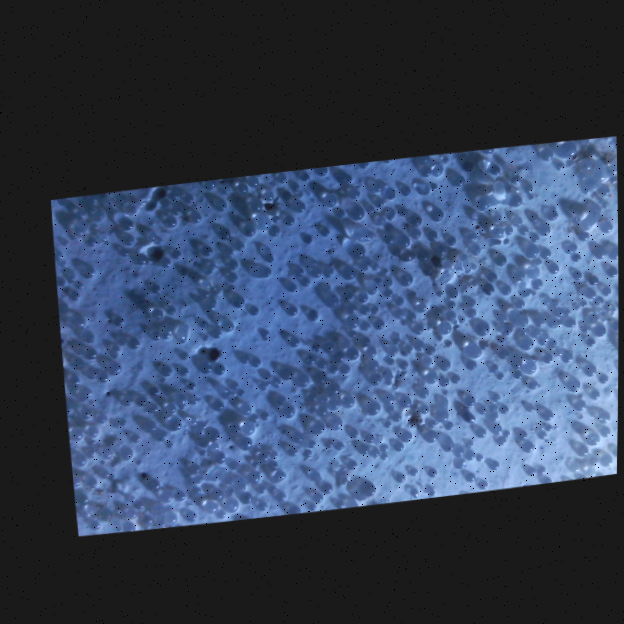GrassBeadSeg: (122, 187, 576, 530), (163, 161, 568, 523), (88, 214, 617, 487), (184, 192, 611, 498), (147, 221, 607, 491), (232, 157, 589, 490), (73, 223, 599, 445), (86, 233, 540, 487), (213, 208, 559, 512), (171, 248, 603, 481), (188, 209, 554, 474), (197, 183, 501, 495), (121, 225, 530, 456), (74, 254, 507, 466), (83, 214, 551, 409), (185, 195, 464, 514), (224, 158, 594, 389), (267, 231, 578, 492), (200, 149, 554, 367), (200, 245, 560, 448), (192, 184, 435, 477), (311, 164, 538, 475), (247, 224, 610, 413), (165, 273, 581, 430), (257, 226, 501, 493), (152, 259, 510, 440), (219, 229, 454, 501), (282, 147, 551, 383), (88, 410, 602, 529), (281, 231, 600, 417), (185, 255, 402, 522), (206, 352, 573, 509), (372, 232, 613, 466), (175, 207, 366, 500), (210, 232, 598, 375), (259, 182, 524, 390), (235, 240, 452, 485), (316, 245, 539, 483), (267, 265, 540, 459), (241, 266, 461, 502), (267, 270, 527, 469), (164, 375, 526, 516), (167, 188, 360, 452), (115, 314, 478, 454), (230, 323, 590, 462), (222, 300, 457, 503), (199, 252, 582, 374), (77, 341, 482, 455), (222, 356, 515, 512), (222, 295, 522, 447), (196, 165, 328, 489), (312, 235, 507, 449), (159, 258, 359, 461), (400, 250, 591, 455), (298, 313, 612, 435), (385, 142, 563, 355), (253, 198, 372, 497), (423, 271, 611, 457), (248, 220, 613, 315), (212, 306, 407, 482), (239, 282, 499, 414), (191, 339, 425, 483), (62, 237, 209, 456), (186, 266, 334, 474), (383, 289, 596, 432), (251, 264, 437, 425), (223, 215, 387, 397), (203, 266, 321, 513), (182, 192, 616, 258), (318, 389, 593, 493), (288, 335, 495, 470), (475, 197, 599, 418), (222, 228, 455, 345), (416, 250, 553, 445), (203, 246, 607, 311), (277, 227, 439, 382), (291, 308, 478, 441), (300, 277, 500, 401), (216, 452, 581, 517), (321, 193, 452, 373), (232, 294, 476, 385), (252, 305, 380, 472), (257, 433, 528, 511), (311, 319, 491, 433), (295, 372, 502, 470), (243, 225, 342, 429), (255, 164, 558, 230), (216, 319, 324, 502), (165, 263, 327, 384), (388, 235, 599, 323), (341, 271, 534, 349), (438, 316, 577, 422), (432, 208, 494, 438), (213, 321, 479, 374), (359, 343, 466, 468), (165, 424, 504, 463), (206, 427, 416, 488), (539, 316, 616, 474), (286, 266, 358, 432), (243, 451, 547, 488), (227, 205, 371, 283), (468, 244, 552, 373), (307, 395, 476, 459), (158, 230, 436, 268), (263, 394, 357, 506), (231, 428, 345, 510), (214, 452, 420, 497), (374, 218, 452, 333), (398, 277, 440, 476), (249, 266, 335, 360), (228, 261, 296, 378), (229, 202, 258, 470), (426, 356, 535, 427), (484, 288, 563, 380), (198, 453, 377, 493), (161, 429, 260, 501), (145, 308, 183, 489), (340, 258, 416, 346), (350, 234, 481, 285), (442, 277, 480, 452), (401, 298, 525, 351), (438, 186, 538, 247), (386, 359, 488, 412), (306, 174, 383, 243), (135, 254, 208, 323), (526, 289, 616, 343), (268, 225, 319, 320), (342, 320, 394, 412), (434, 290, 561, 327), (323, 395, 408, 450), (425, 210, 445, 442), (479, 337, 540, 413), (262, 327, 338, 386), (268, 256, 352, 307), (346, 460, 490, 489), (90, 385, 158, 446), (387, 155, 450, 220), (466, 369, 522, 442), (427, 440, 536, 475), (396, 221, 552, 245), (270, 437, 349, 484), (449, 258, 541, 298), (360, 258, 400, 342), (57, 197, 107, 264), (166, 178, 260, 213), (78, 208, 105, 326), (469, 169, 534, 218), (205, 250, 271, 297), (313, 369, 380, 413), (237, 182, 253, 363), (73, 397, 133, 443), (168, 181, 233, 223), (304, 172, 346, 236), (595, 185, 617, 305), (557, 141, 579, 255), (436, 236, 509, 268), (381, 412, 418, 475), (82, 470, 128, 520), (274, 340, 327, 383), (275, 352, 318, 404), (127, 213, 197, 244), (348, 186, 490, 201), (342, 296, 370, 372), (251, 176, 294, 225), (85, 331, 126, 381), (80, 319, 140, 353), (568, 159, 616, 200), (309, 357, 344, 412), (504, 408, 584, 432), (162, 351, 198, 404), (191, 418, 221, 481), (87, 445, 143, 478), (349, 399, 385, 450), (151, 321, 209, 351), (147, 396, 197, 430), (553, 269, 587, 316), (488, 373, 514, 434), (305, 344, 437, 356), (348, 300, 400, 329), (130, 491, 173, 526), (414, 301, 451, 341), (70, 360, 122, 388), (447, 224, 513, 245), (418, 154, 462, 185), (521, 281, 564, 312), (519, 316, 537, 388), (82, 386, 107, 437), (461, 160, 514, 184), (279, 174, 306, 220), (345, 350, 432, 364), (435, 288, 459, 338), (384, 278, 403, 339), (525, 359, 592, 376), (366, 181, 403, 211), (420, 386, 476, 405), (123, 219, 148, 259), (583, 188, 607, 229), (58, 260, 83, 299), (119, 482, 146, 518), (106, 432, 141, 459), (573, 272, 604, 302), (325, 285, 377, 302), (471, 209, 521, 226), (504, 315, 544, 336), (237, 368, 268, 395), (525, 182, 593, 194), (402, 407, 424, 442), (382, 413, 401, 449), (303, 405, 316, 457), (317, 381, 341, 409), (335, 328, 356, 355), (334, 347, 369, 361), (401, 346, 427, 364), (232, 417, 258, 435), (386, 393, 413, 407), (416, 387, 430, 413), (503, 216, 522, 234), (149, 387, 159, 421), (347, 346, 376, 356), (388, 355, 408, 368), (251, 409, 271, 420), (405, 235, 411, 247), (396, 242, 407, 248), (190, 485, 197, 493), (356, 347, 359, 351), (398, 235, 404, 237)
